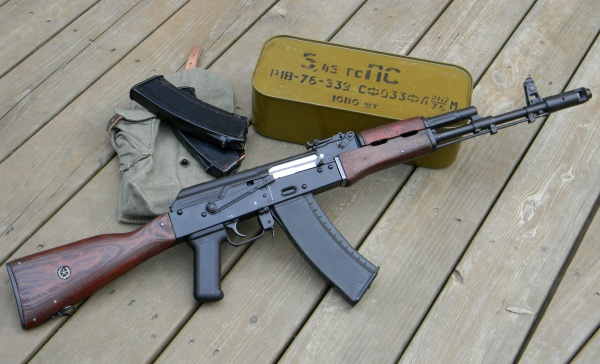ak47: (8, 78, 592, 327)
